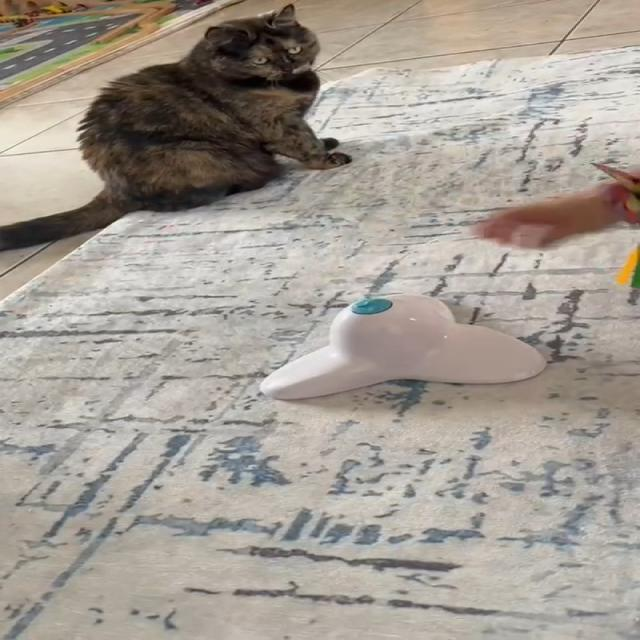authorized: (0, 2, 352, 253)
